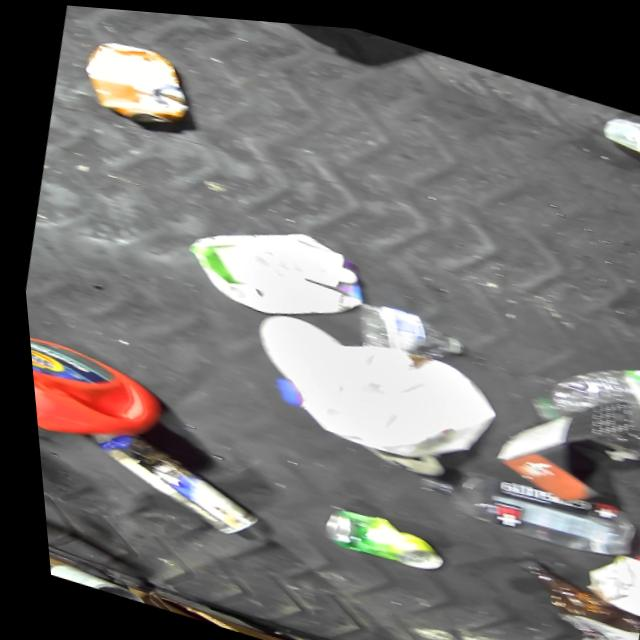can: (74, 24, 182, 124), (299, 492, 432, 567), (632, 268, 640, 320)
milk_jug: (241, 305, 501, 475)
non_white_jug: (23, 332, 152, 455)
plastic_bottle: (404, 451, 606, 547), (507, 313, 640, 450), (323, 288, 471, 371)
